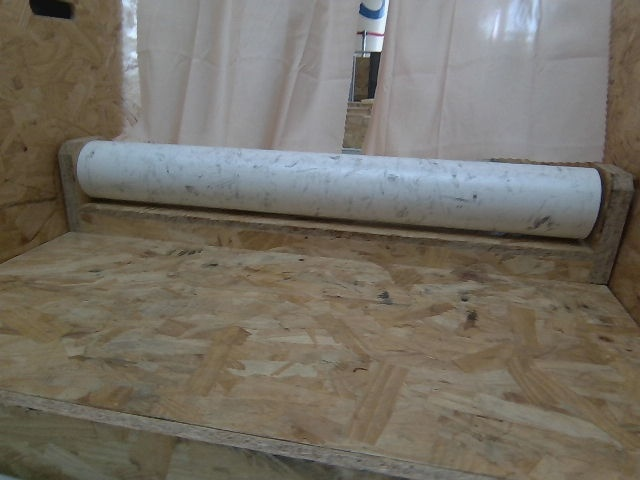curtain: (109, 0, 589, 158)
